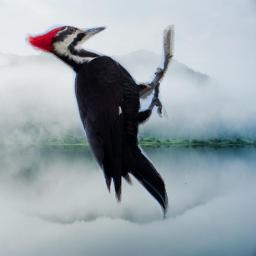Woodpecker: (25, 24, 175, 220)
